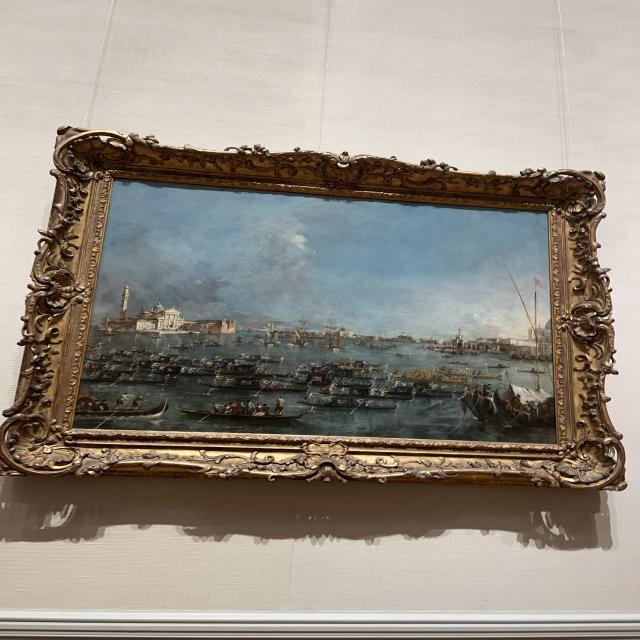ships: (76, 181, 554, 441)
